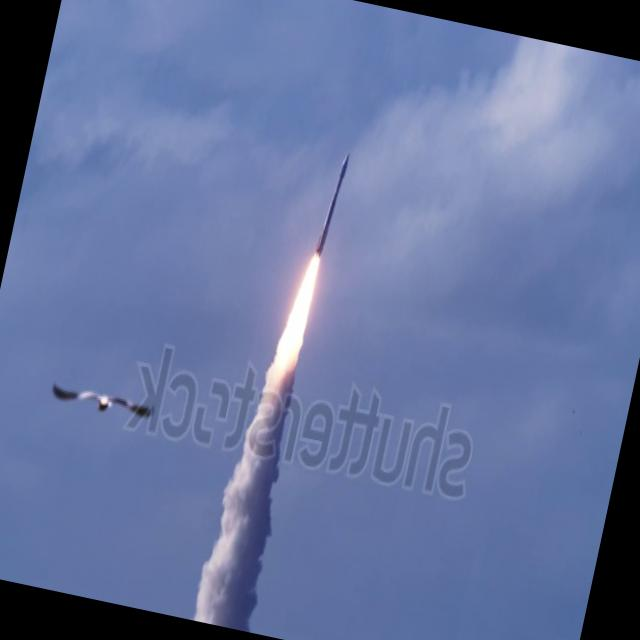rocket: (242, 138, 352, 493)
